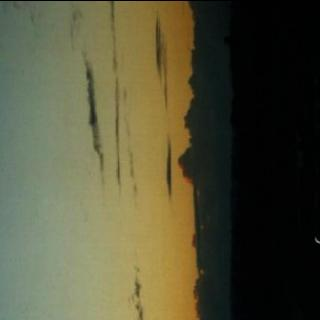Stratocumulus: (66, 0, 223, 320)
